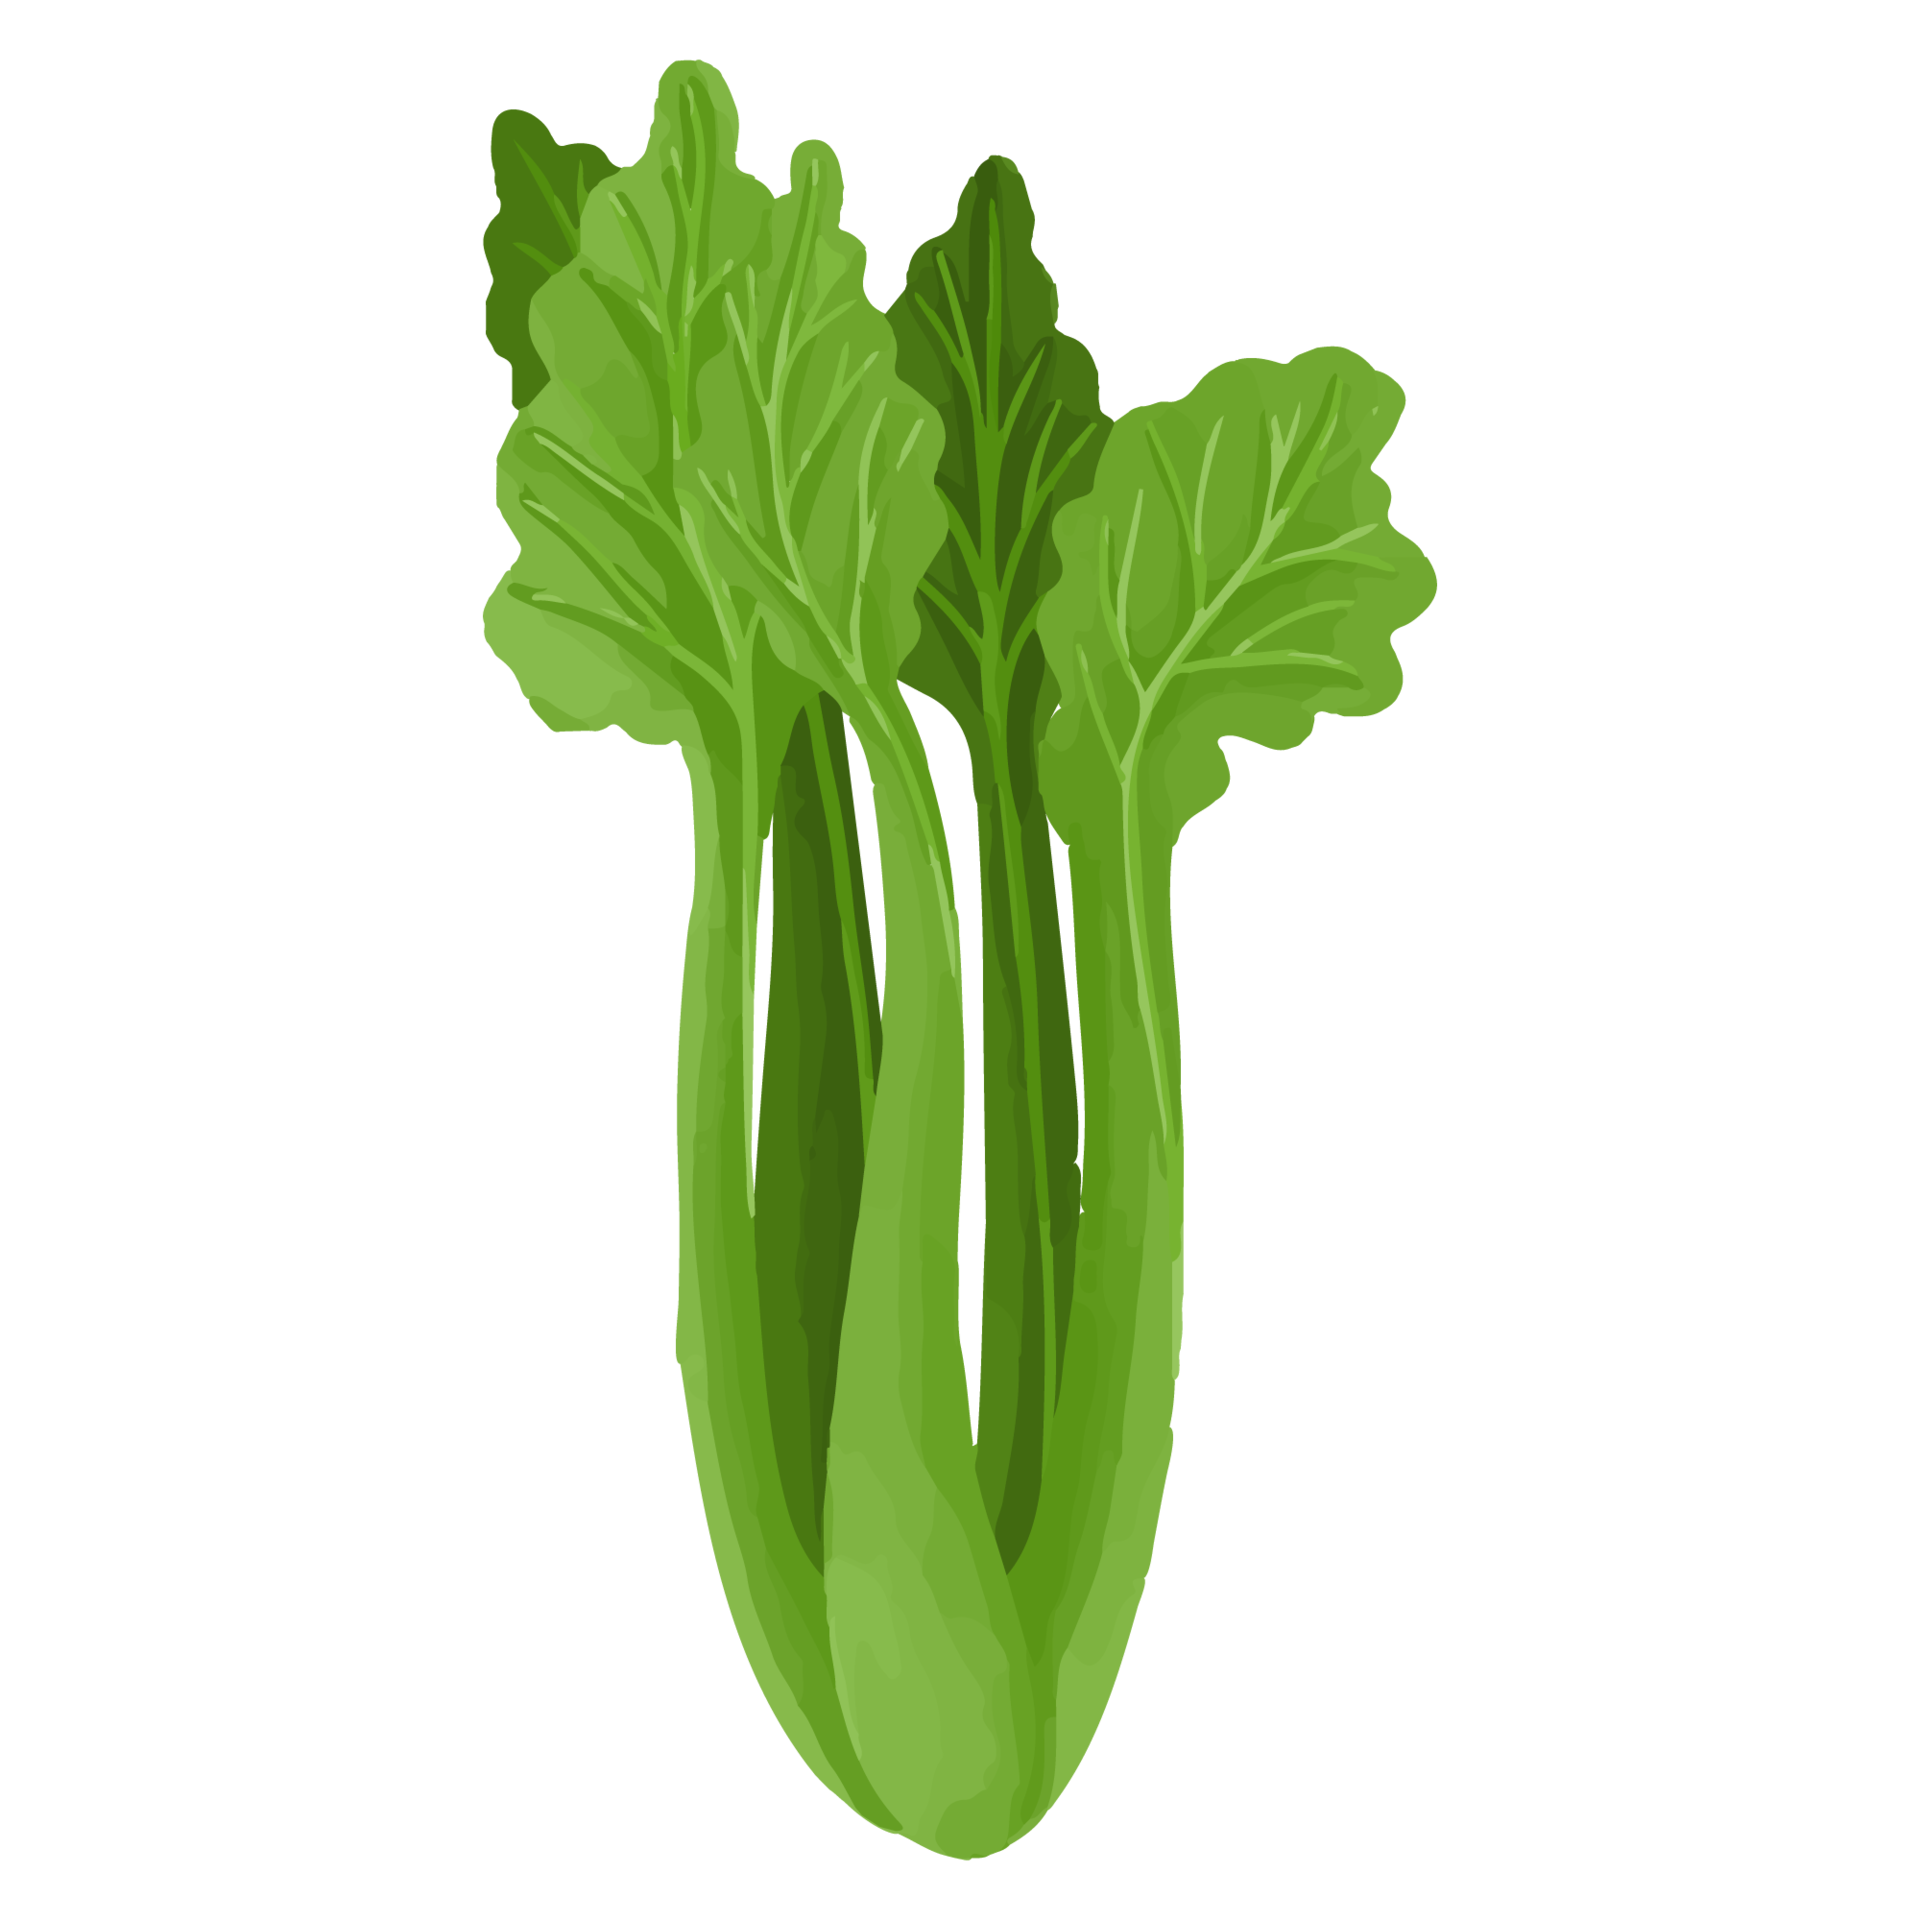Seledri: (375, 69, 1579, 1920)
